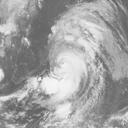cyclone: (48, 39, 96, 87)
